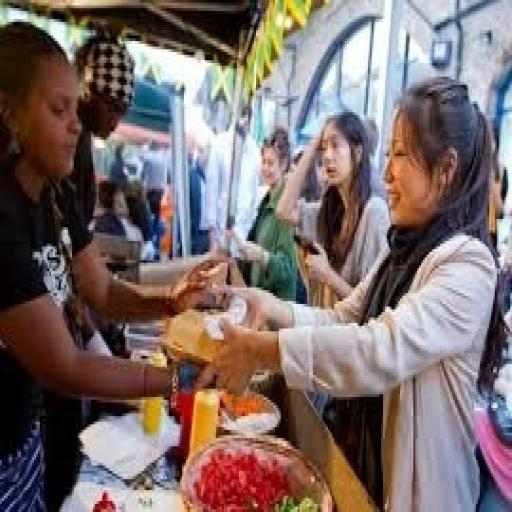eating: (195, 74, 501, 509), (0, 16, 226, 510)
